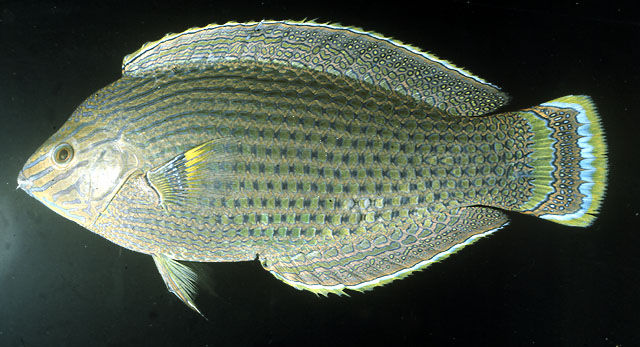fish: (17, 18, 608, 321)
